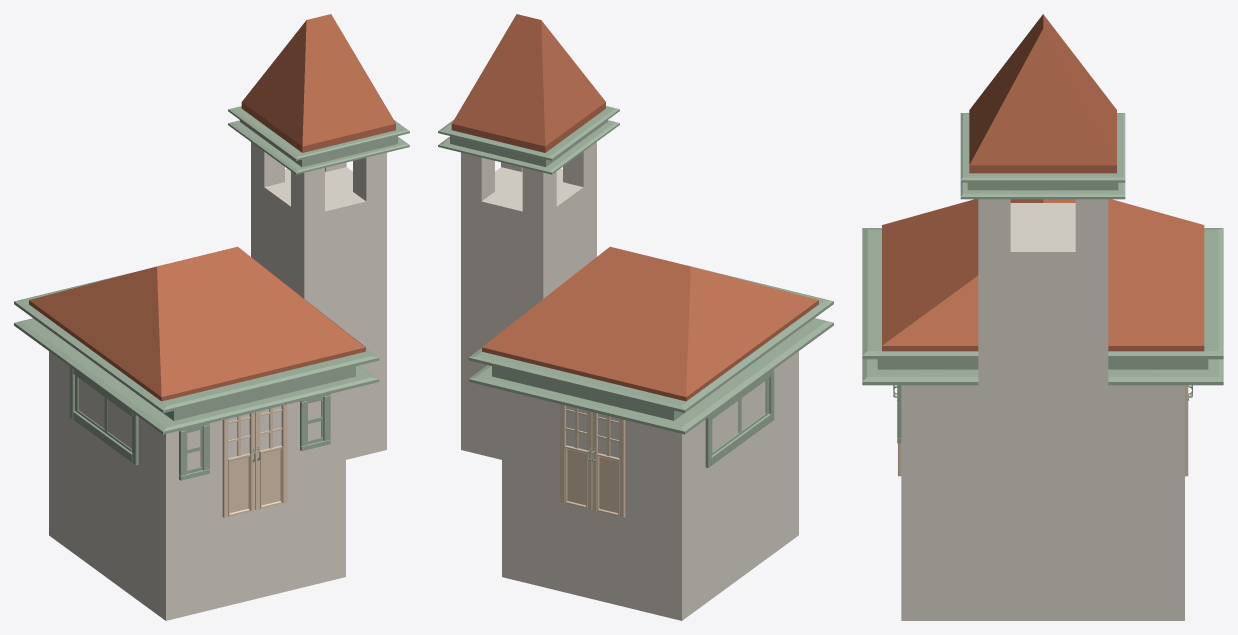
File: SmallHouse3.fbx
3 renders of one model, left to right at view 1: azimuth 30°, elevation 25°; view 2: azimuth 150°, elevation 25°; view 3: azimuth 270°, elevation 25°, orthographic. The views are drawn at different scales.
Parts seen in each view (by area): view 1: pCube366; view 2: pCube366; view 3: pCube366.
Part boxes in pixels (x1,y1,x2,y2): pCube366: [14, 14, 409, 620]; pCube366: [438, 14, 833, 620]; pCube366: [862, 14, 1223, 620].
Size of the model in its own units: 32 by 54.24 by 28.74.
